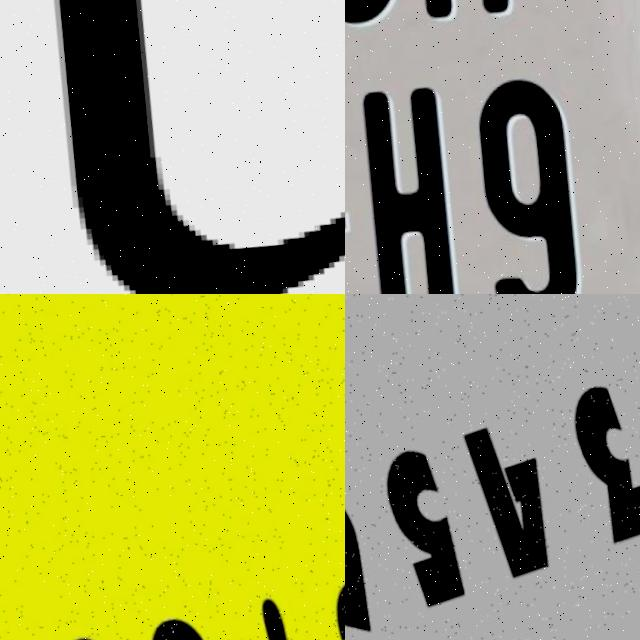3: (547, 358, 640, 568)
4: (452, 395, 593, 609)
5: (357, 420, 501, 640)
6: (465, 66, 593, 294), (345, 447, 416, 640)
7: (214, 562, 345, 640)
H: (352, 83, 468, 294)
N: (0, 0, 345, 294)
